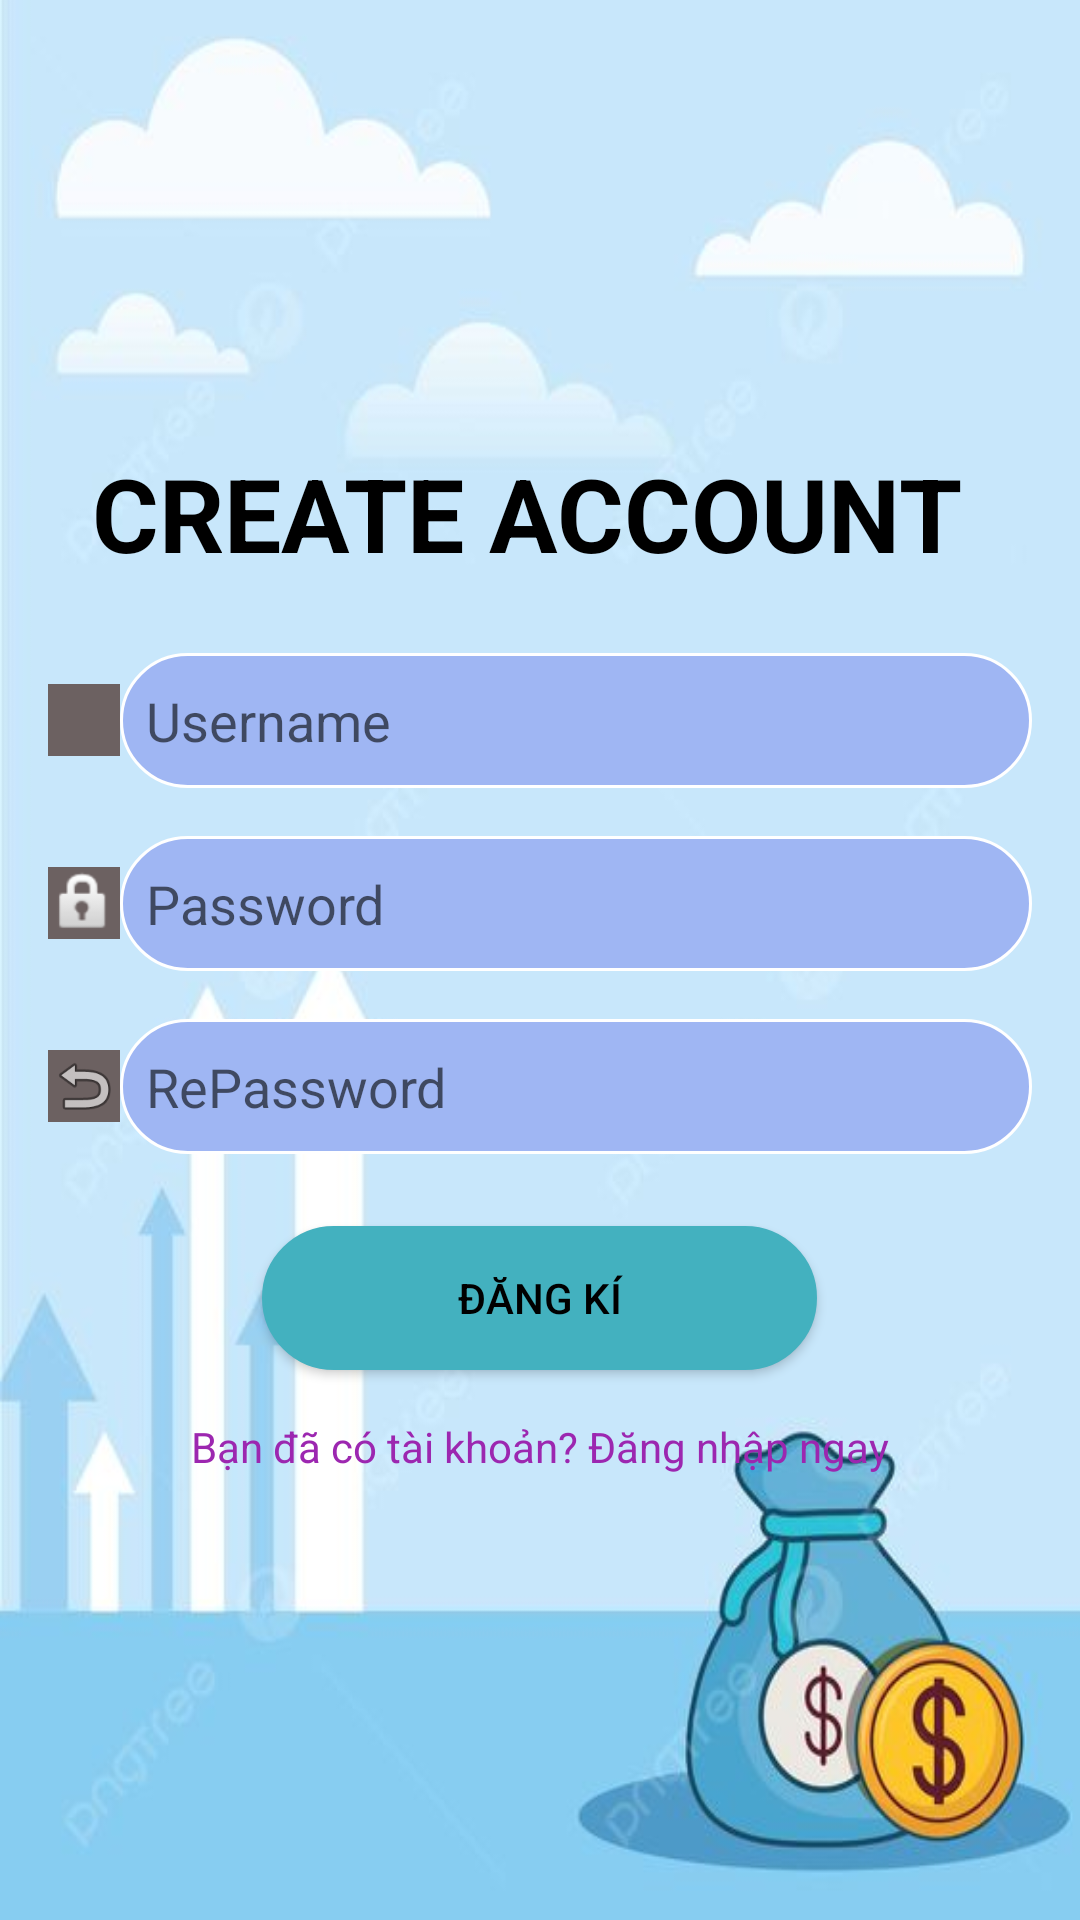

Locate icon controls on the screen. Image size 1080px x 1920px, boxes as (x1, y1, x2, y2).
lock idle: (48, 867, 120, 939)
revert: (48, 1050, 120, 1122)
